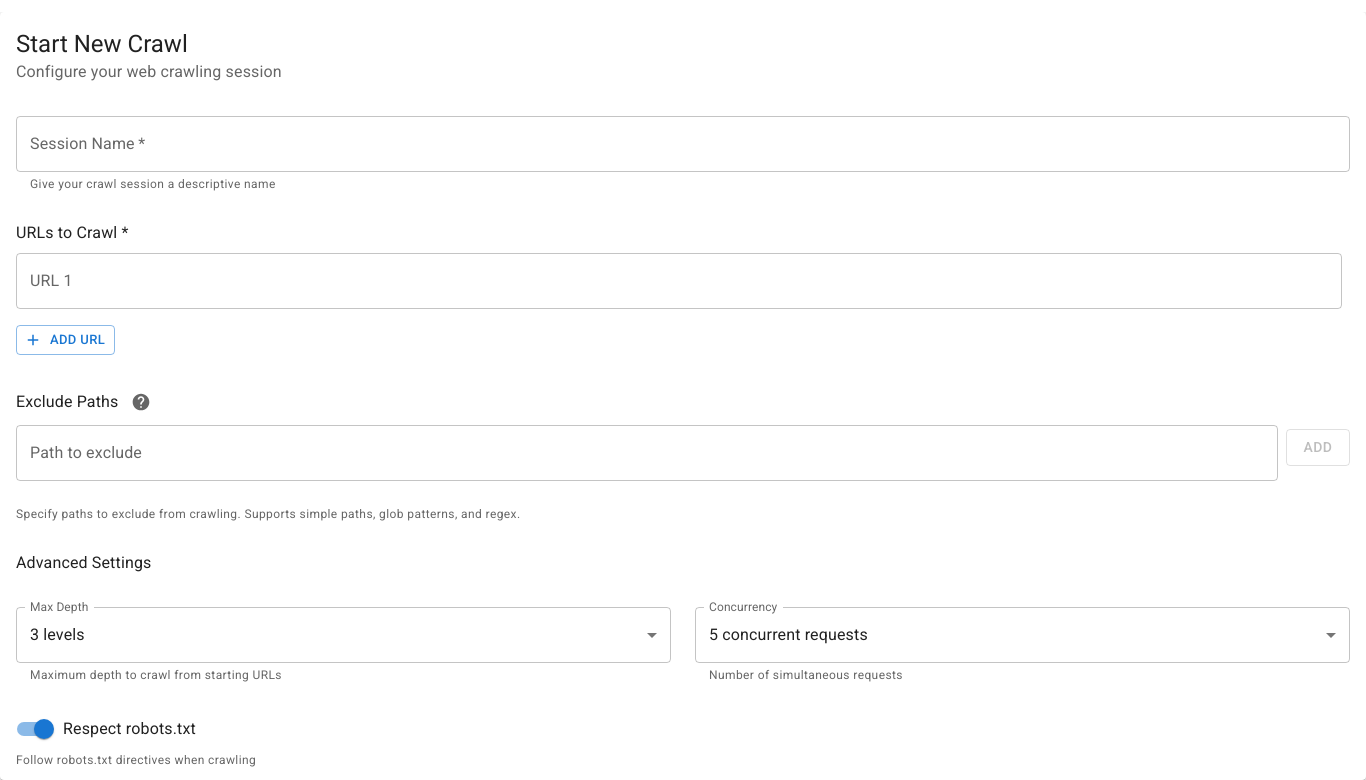
CrawlForm › validates URL format
The width and height of the screenshot is (1366, 780).
Type "Test Session" into the field labelled "Session Name *".
click(683, 144); type("Test Session")  # box [16, 116, 1350, 172]
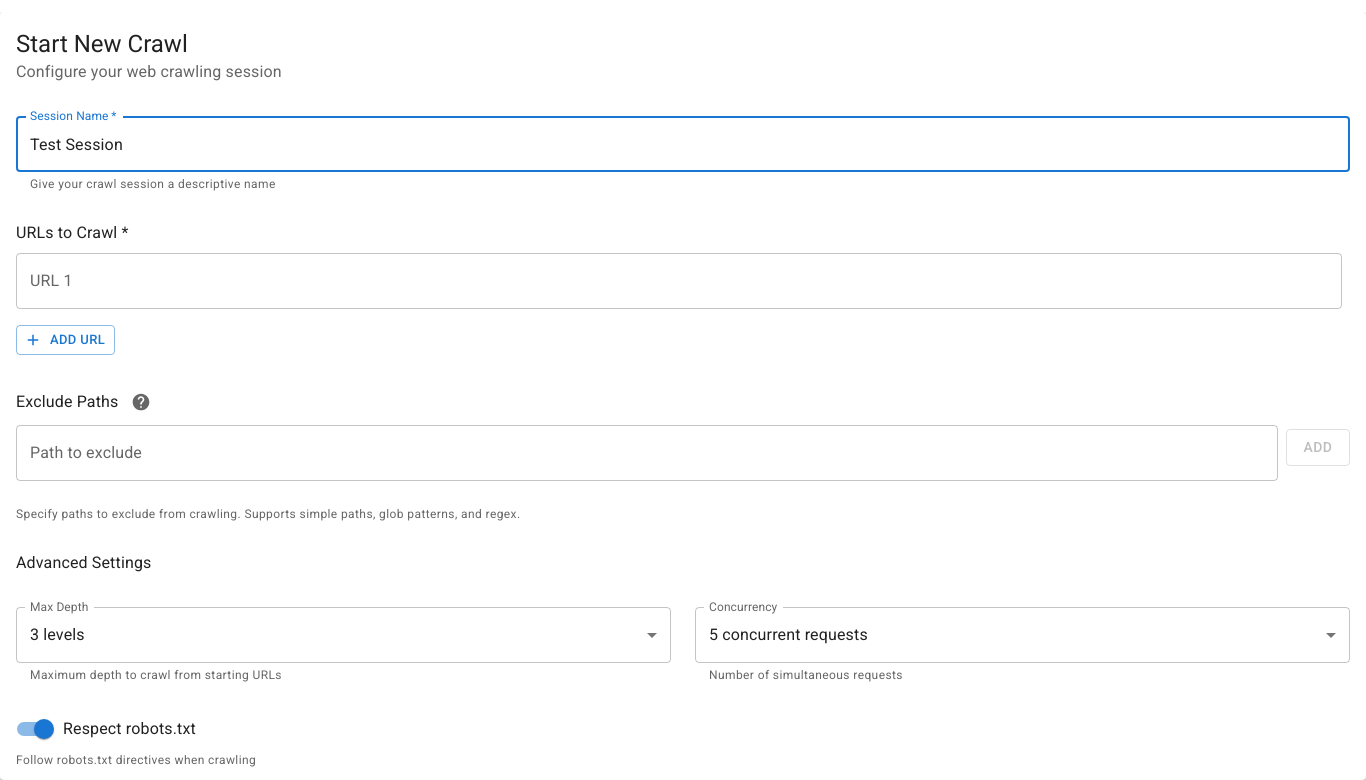
Type "invalid-url" into the field labelled "URL 1".
click(679, 280); type("invalid-url")  # box [16, 252, 1342, 308]
(page scrolled)
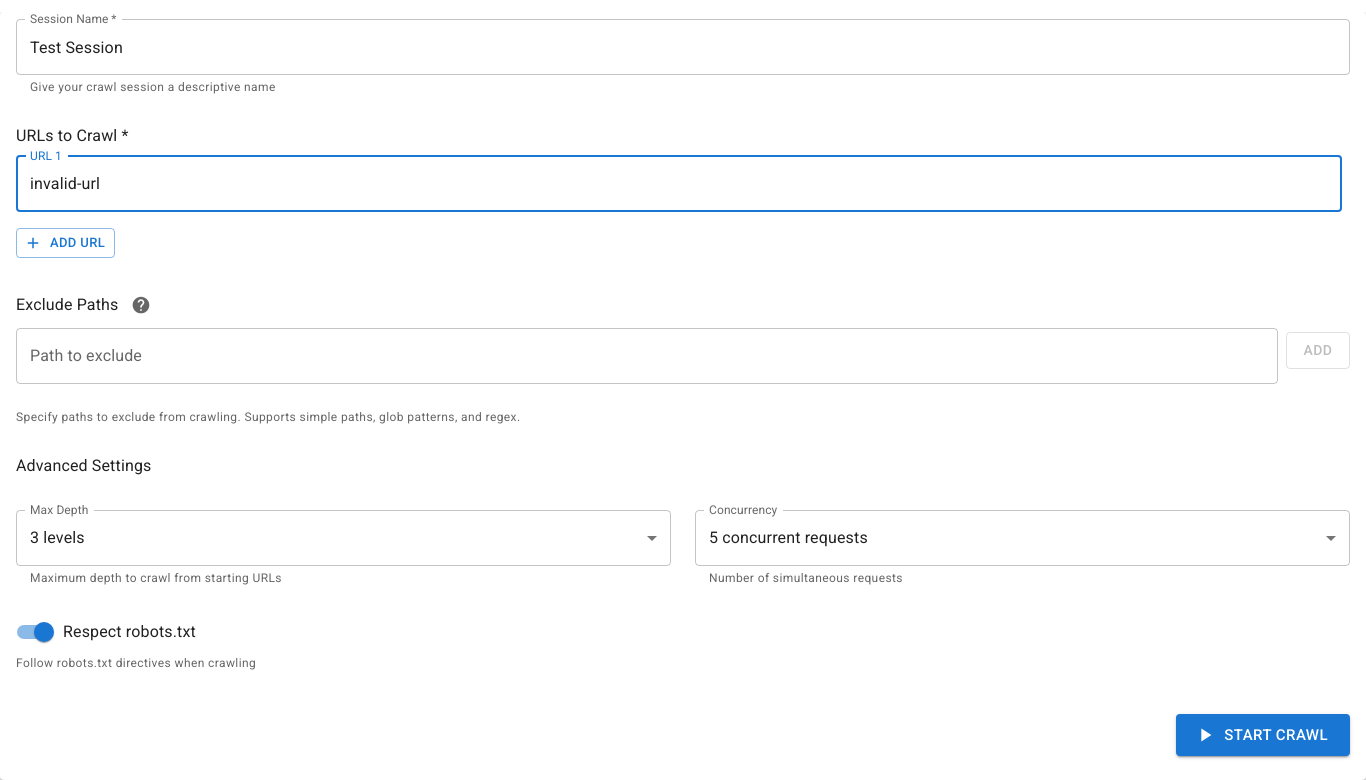
Click the button "Start Crawl".
click(1263, 735)  # box [1176, 714, 1350, 756]
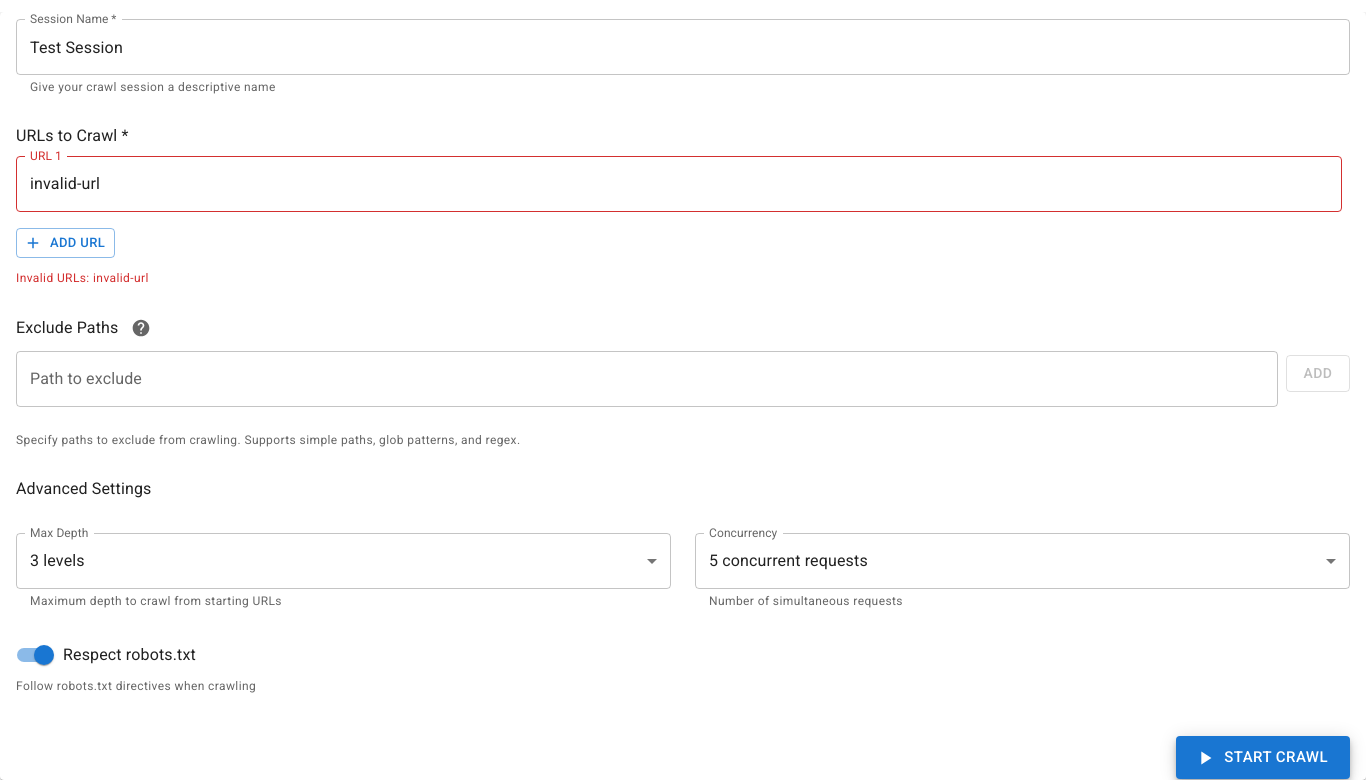
Check: the text "Invalid URLs: invalid-url" is shown, box [16, 271, 149, 285]
